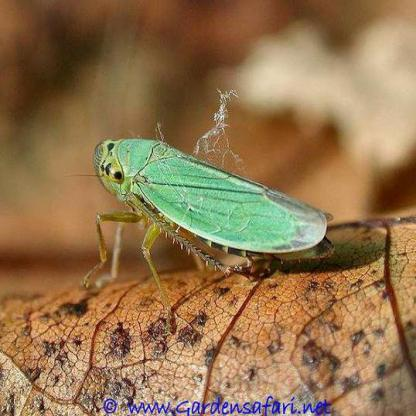Green-Leafhopper: (81, 133, 322, 291)
